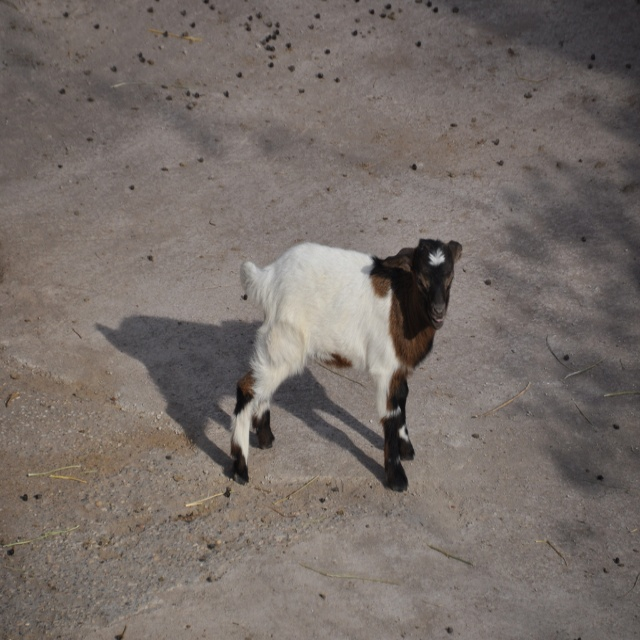Goat: (223, 223, 475, 507)
